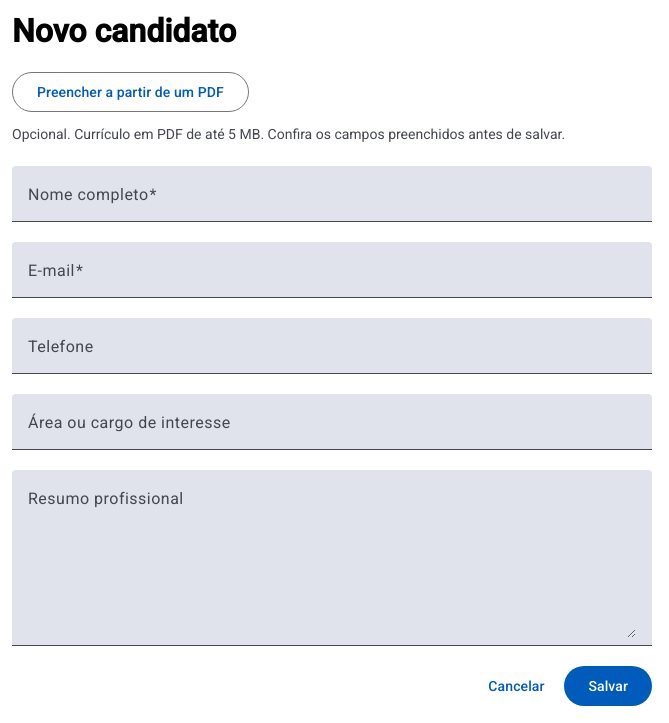
Test: CadastroCandidatoComponent › erros devolvidos pela API › mostra cada erro de validação da API junto ao seu campo
Type "Maria da Silva" into the field labelled "Nome completo" at (332, 202), box [28,190,636,214]
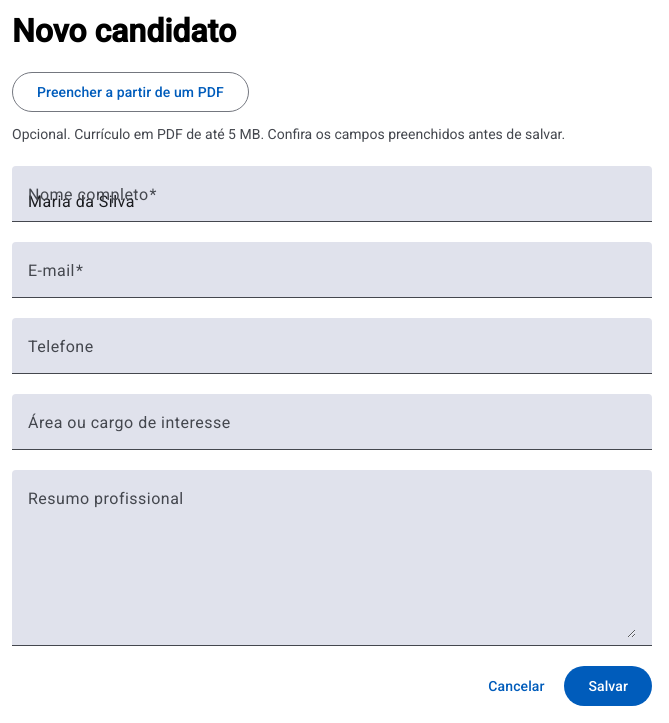
Type "maria.silva@exemplo.com" into the field labelled "E-mail" at (332, 278), box [28,266,636,290]
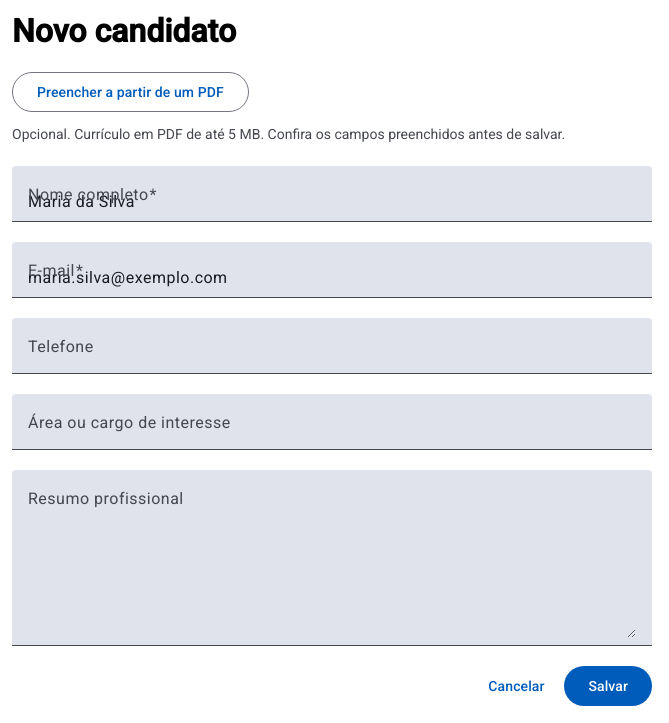
Submit the form
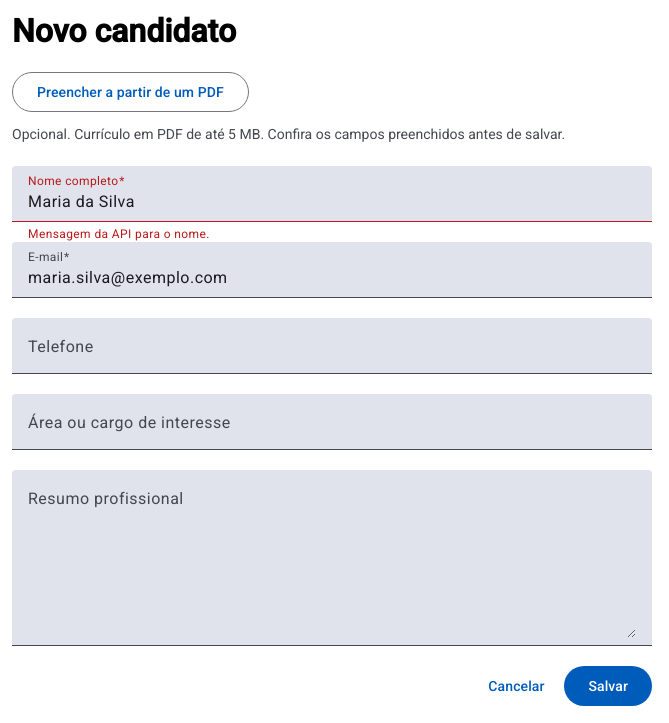
Result: the text "Mensagem da API para o nome." is shown at [28,227,210,241]
